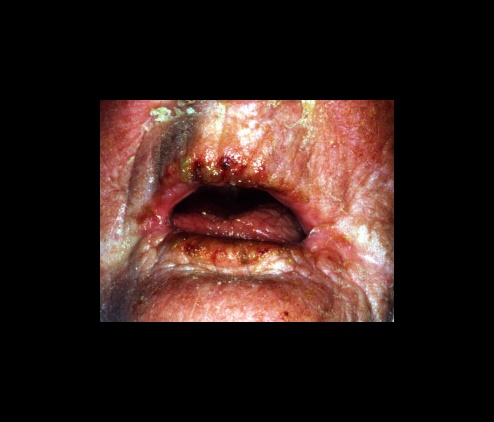SJS-TEN: (98, 99, 395, 322)
